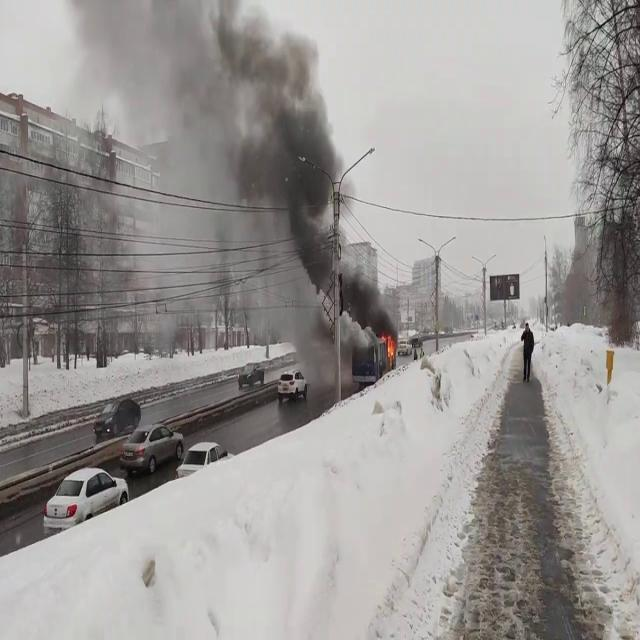Fire: (381, 326, 398, 369)
Smoke: (49, 0, 386, 360), (150, 1, 388, 360)
